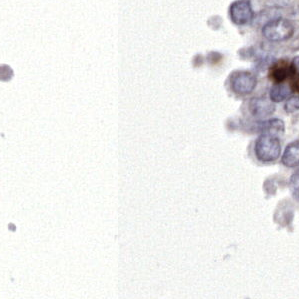Lymphocyte: (266, 56, 299, 93)
